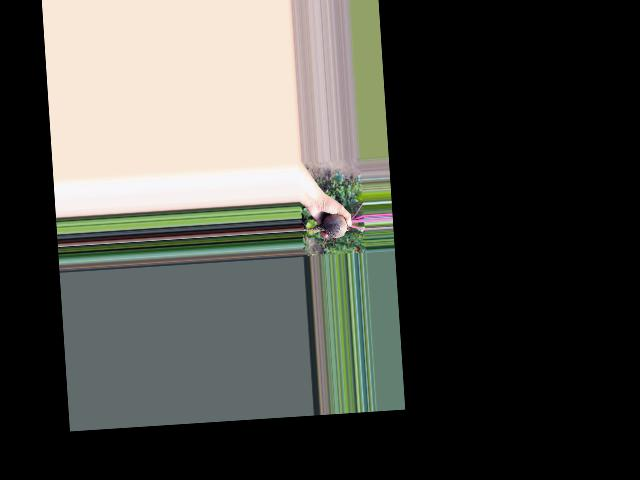beet: (299, 202, 365, 250)
